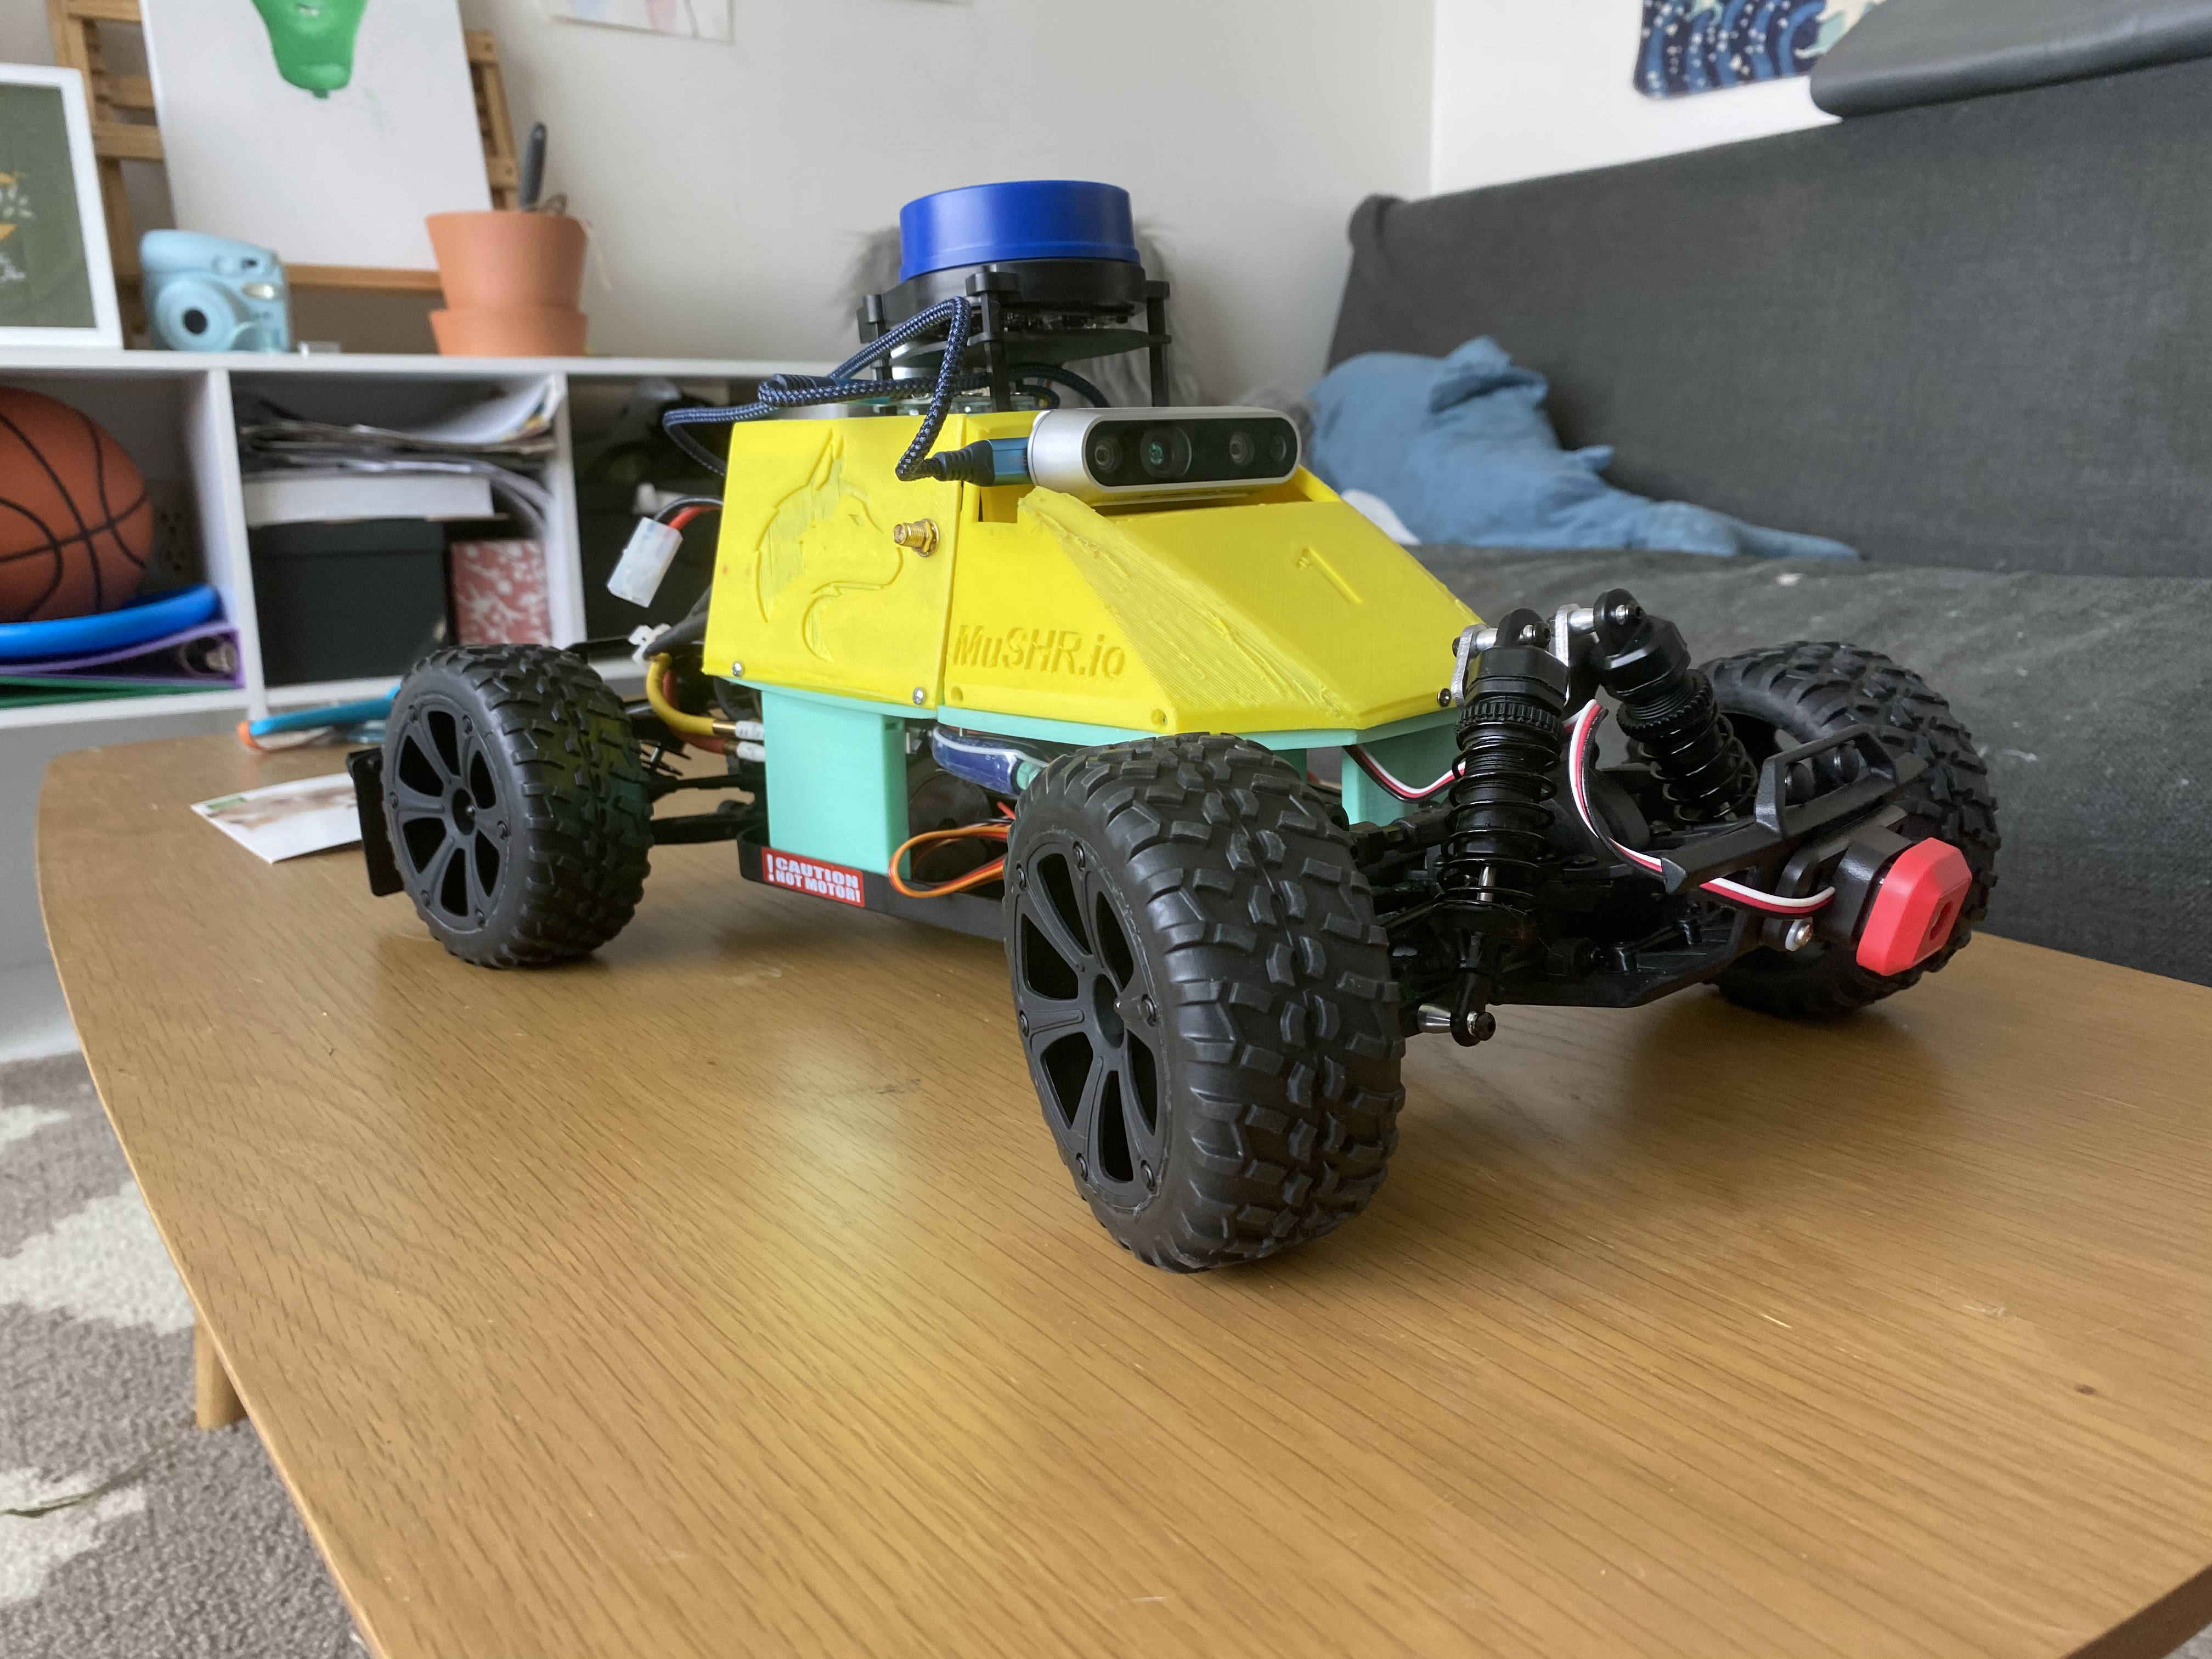mushr_car: (338, 169, 2008, 1284)
